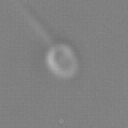normal: (10, 1, 53, 44)
